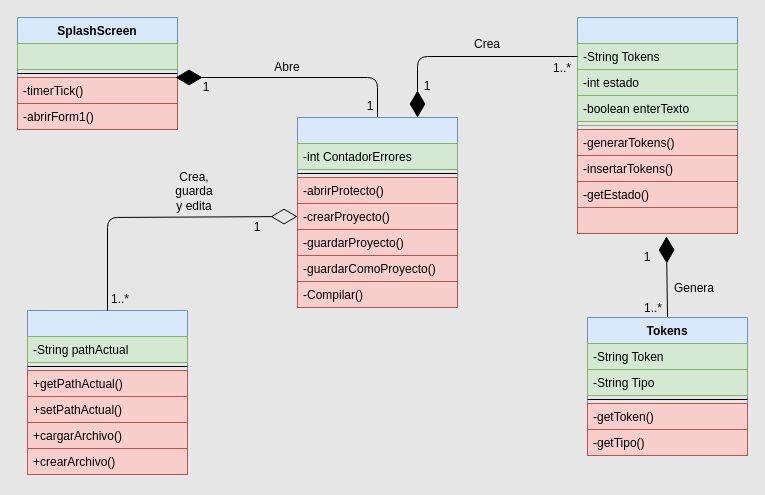
The diagram is 765 pixels wide and 495 high, and some of its shapes have lost their labels. The shapes that lost their labels are listed below. From the top down, each one's box as (x1, y1, x2, y2) in pixels, then its label:
(16, 42, 178, 70): -timer
(576, 16, 738, 234): Automata
(296, 116, 458, 308): Form1
(576, 206, 738, 234): -setEstado()
(26, 310, 188, 474): ManejadorArchivos
